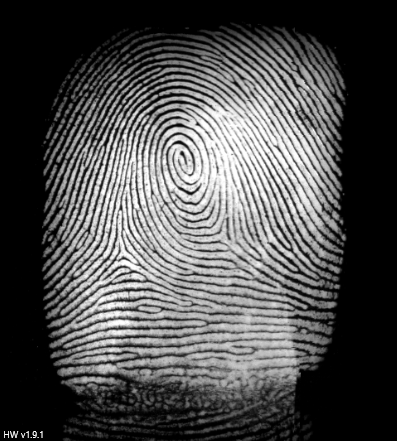nucelo: (161, 133, 203, 185)
verticilo: (101, 232, 139, 271), (207, 217, 237, 246)
